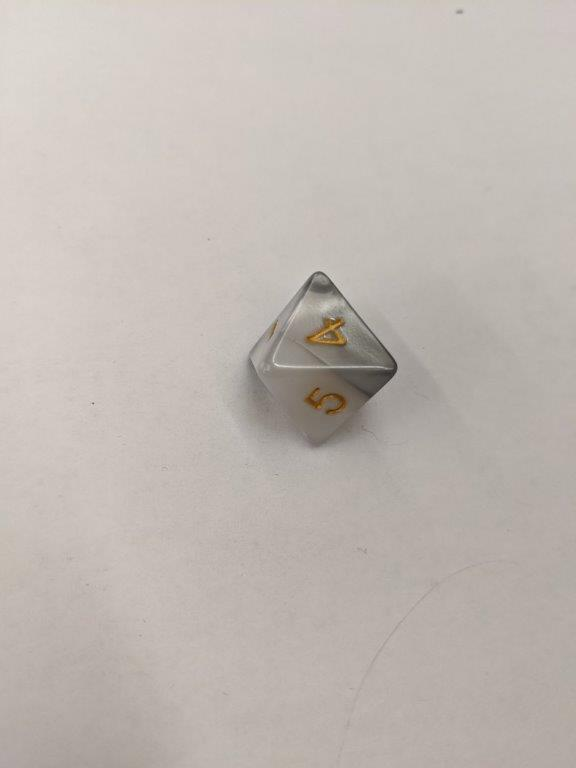d8-4: (245, 267, 401, 449)
